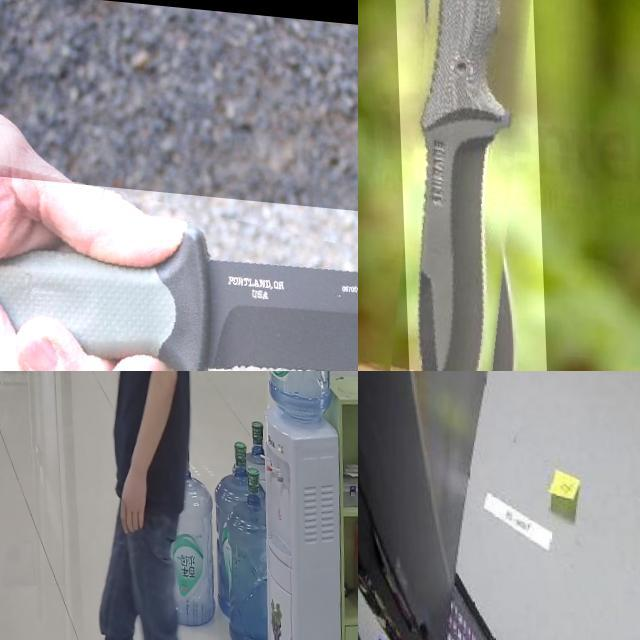-: (0, 169, 358, 371), (389, 0, 543, 371)
gun-knife-thesis - v11 Yolov5 augmented: (0, 371, 49, 408)
